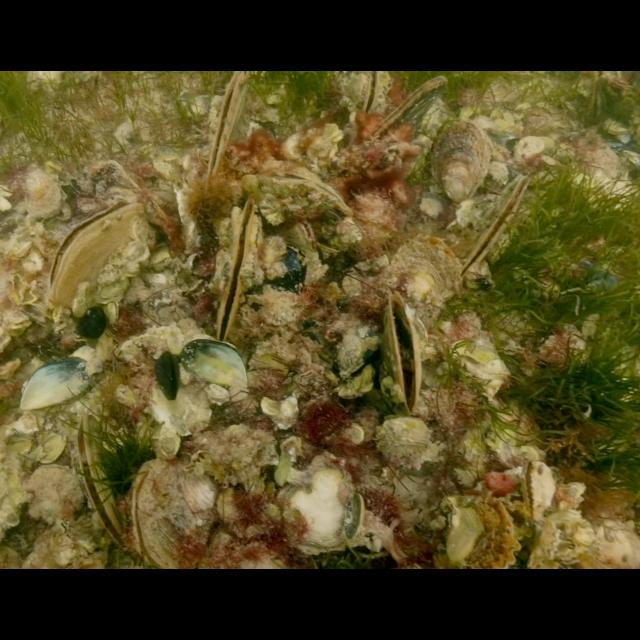Oyster-Closed: (134, 458, 220, 570), (392, 235, 472, 335), (378, 76, 458, 148), (433, 120, 499, 206)
Oyster-Open: (51, 200, 149, 310), (448, 494, 566, 570), (460, 175, 542, 283), (80, 416, 132, 554), (218, 200, 266, 346), (260, 165, 362, 231), (381, 285, 431, 419), (208, 70, 254, 180), (524, 460, 562, 520), (290, 220, 330, 258), (362, 72, 392, 122)
